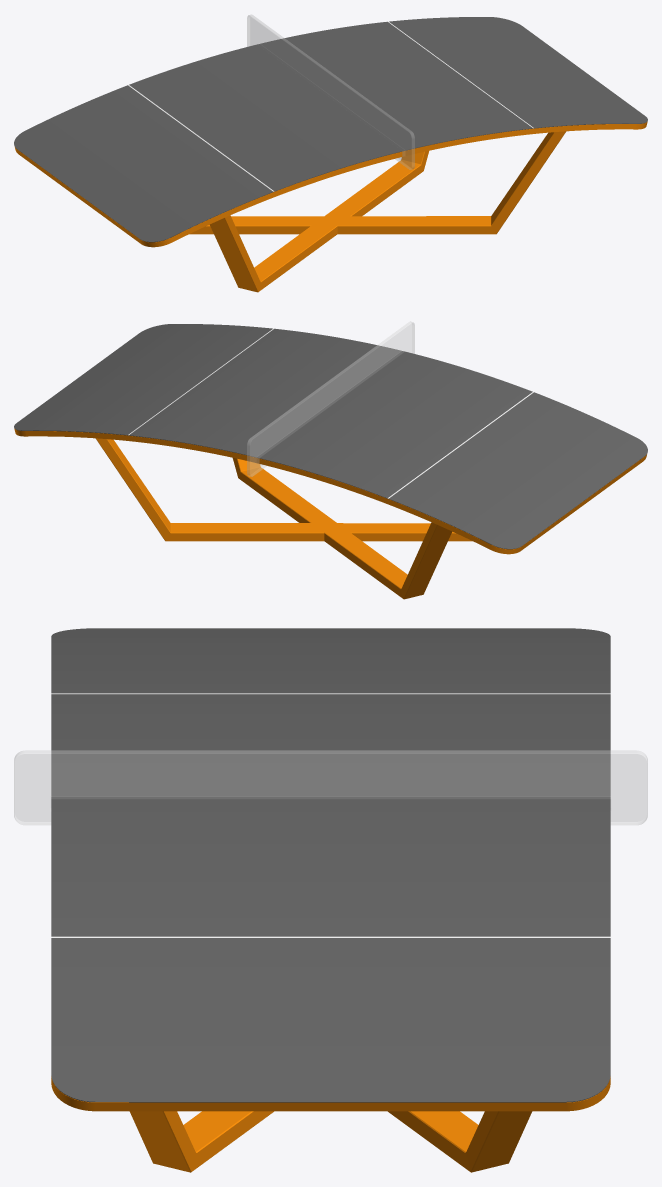
Rendered from Teqball_Table.glb.
The picture shows the model from 3 angles, top to bottom: view 1: azimuth 30°, elevation 25°; view 2: azimuth 150°, elevation 25°; view 3: azimuth 270°, elevation 25°; orthographic projection. The views are drawn at different scales.
Visible parts, largest first — view 1: pCube7, pCube3, pCube6, pCube4, pCube1, pCube16; view 2: pCube7, pCube3, pCube6, pCube4, pCube1, pCube16; view 3: pCube7, pCube4, pCube1, pCube6, pCube3, pCube16.
Boxes of the visible parts, x1=… form: pCube7: x1=14, y1=17, x2=647, y2=242; pCube3: x1=209, y1=151, x2=428, y2=292; pCube6: x1=189, y1=131, x2=566, y2=234; pCube4: x1=247, y1=14, x2=414, y2=169; pCube1: x1=15, y1=121, x2=647, y2=247; pCube16: x1=128, y1=21, x2=533, y2=191; pCube7: x1=14, y1=324, x2=647, y2=549; pCube3: x1=95, y1=438, x2=472, y2=541; pCube6: x1=232, y1=458, x2=452, y2=599; pCube4: x1=247, y1=321, x2=414, y2=476; pCube1: x1=14, y1=428, x2=646, y2=554; pCube16: x1=128, y1=328, x2=533, y2=498; pCube7: x1=51, y1=628, x2=610, y2=1102; pCube4: x1=14, y1=750, x2=647, y2=824; pCube1: x1=51, y1=1076, x2=610, y2=1111; pCube6: x1=129, y1=1111, x2=273, y2=1172; pCube3: x1=388, y1=1111, x2=532, y2=1172; pCube16: x1=51, y1=693, x2=610, y2=937.
Bounding box in the file's own units: 3 × 0.9 × 1.7.
